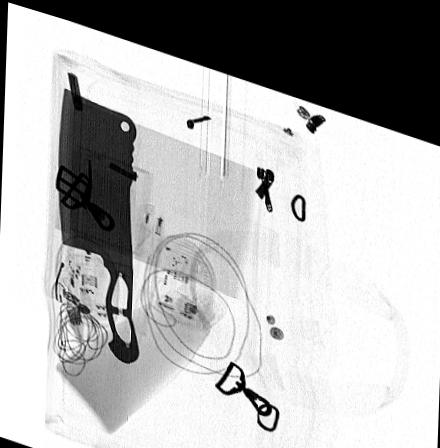Knife: (57, 82, 140, 356)
